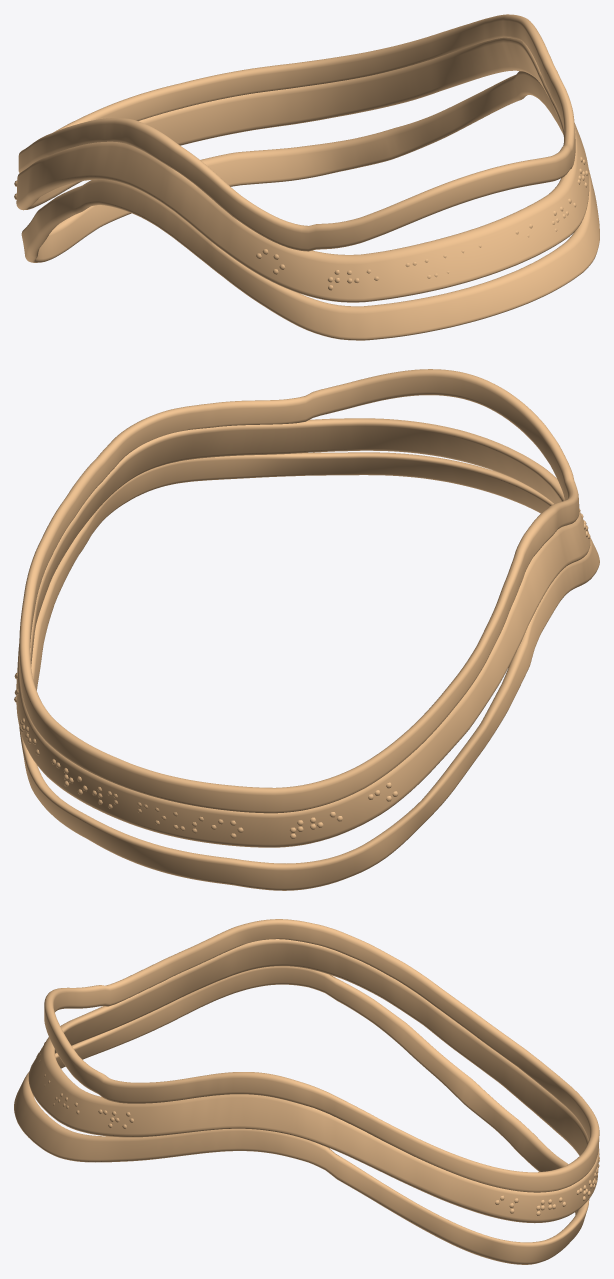
Rendered from circlet-b.glb.
3 views of the same model, one above another, from view 1: azimuth 30°, elevation 25°; view 2: azimuth 150°, elevation 25°; view 3: azimuth 270°, elevation 25° (orthographic). The views are drawn at different scales.
Visible parts, largest first — view 1: crown-body, braille-dots; view 2: crown-body, braille-dots; view 3: crown-body, braille-dots.
Part boxes in pixels (x1,y1,x2,y2): crown-body: [16, 14, 599, 340]; braille-dots: [14, 156, 588, 290]; crown-body: [16, 369, 599, 890]; braille-dots: [14, 508, 590, 838]; crown-body: [14, 919, 599, 1264]; braille-dots: [35, 1042, 599, 1215].
Size of the model in its own units: 0.1744 by 0.0992 by 0.2303.
